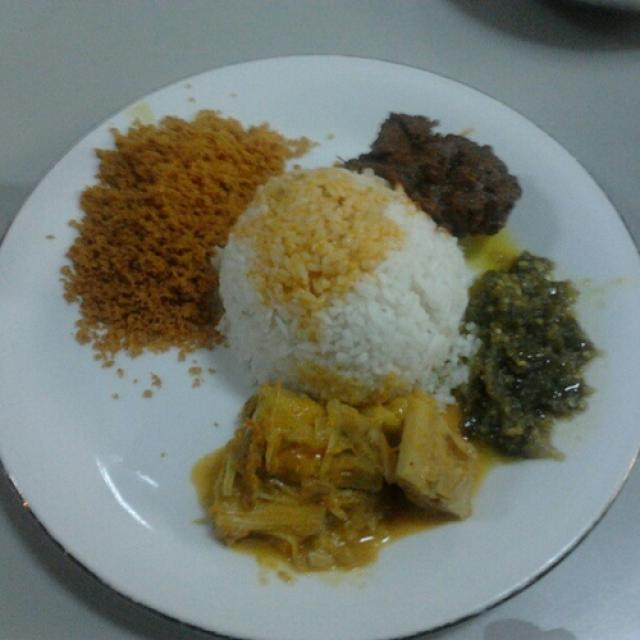米饭主食: (29, 40, 617, 623)
